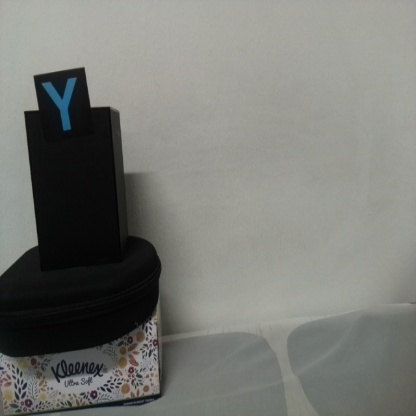id_14: (34, 74, 88, 137)
